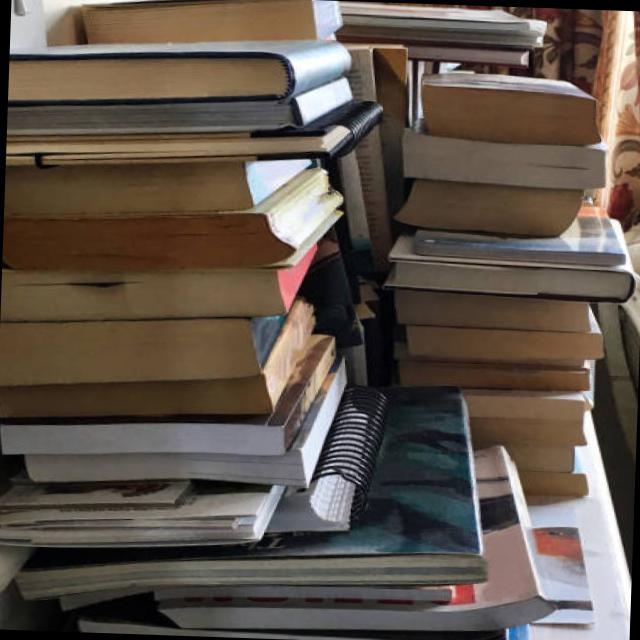electronic: (8, 27, 352, 114), (417, 69, 601, 145), (77, 0, 344, 52), (397, 126, 607, 190), (392, 178, 584, 238)
